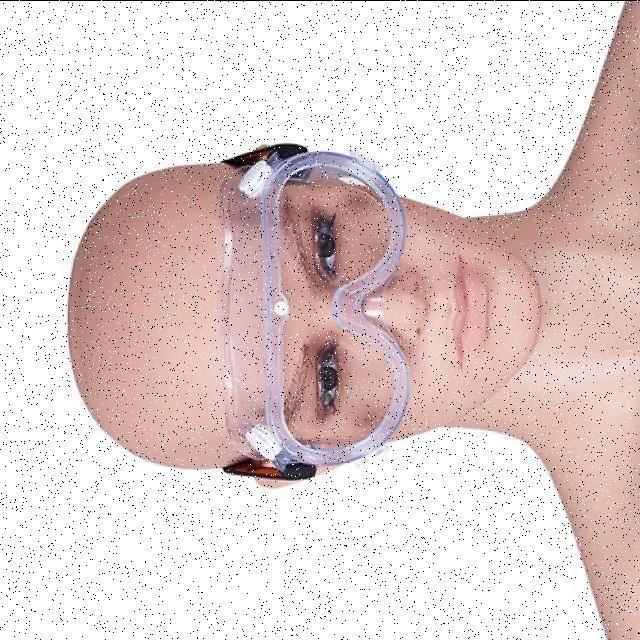Goggles: (221, 136, 411, 498)
